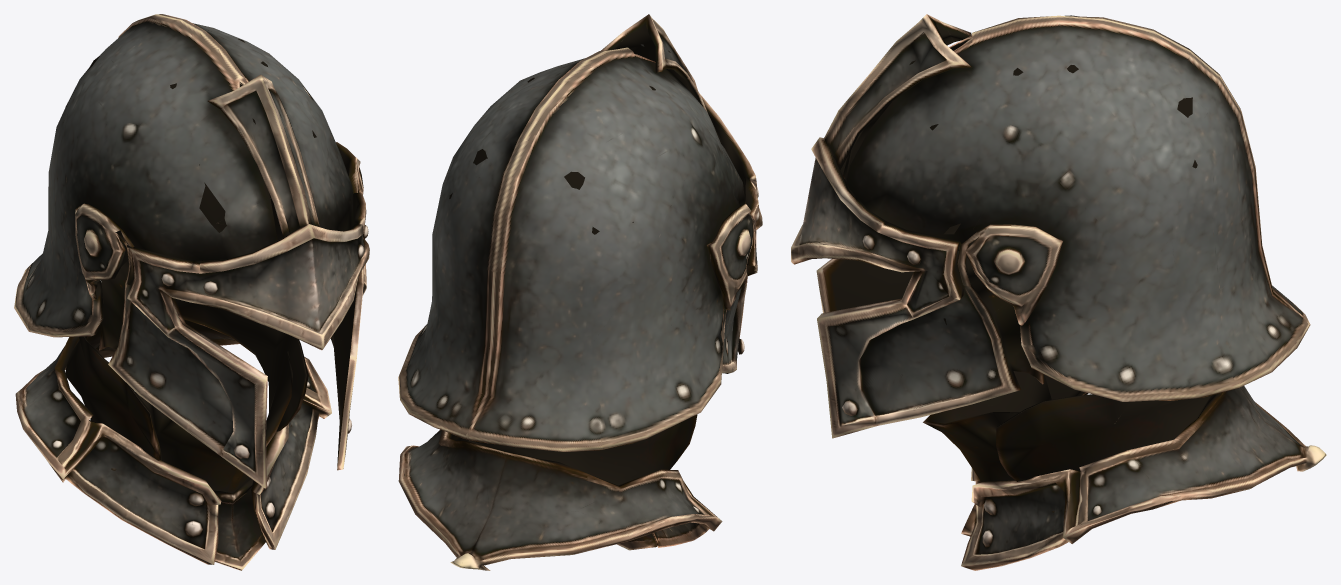
File: angeglichen.glb
3 views of the same model, side by side, from view 1: azimuth 30°, elevation 25°; view 2: azimuth 150°, elevation 25°; view 3: azimuth 270°, elevation 25° (orthographic). The views are drawn at different scales.
Visible parts, largest first — view 1: geometry_0; view 2: geometry_0; view 3: geometry_0.
Boxes of the visible parts, x1,y1,x2,y2 form: geometry_0: (14,14,369,570); geometry_0: (398,14,762,570); geometry_0: (791,14,1326,570).
Size of the model in its own units: 0.5581 by 0.9521 by 0.835.
Materials: 1 (1 with a texture image).
